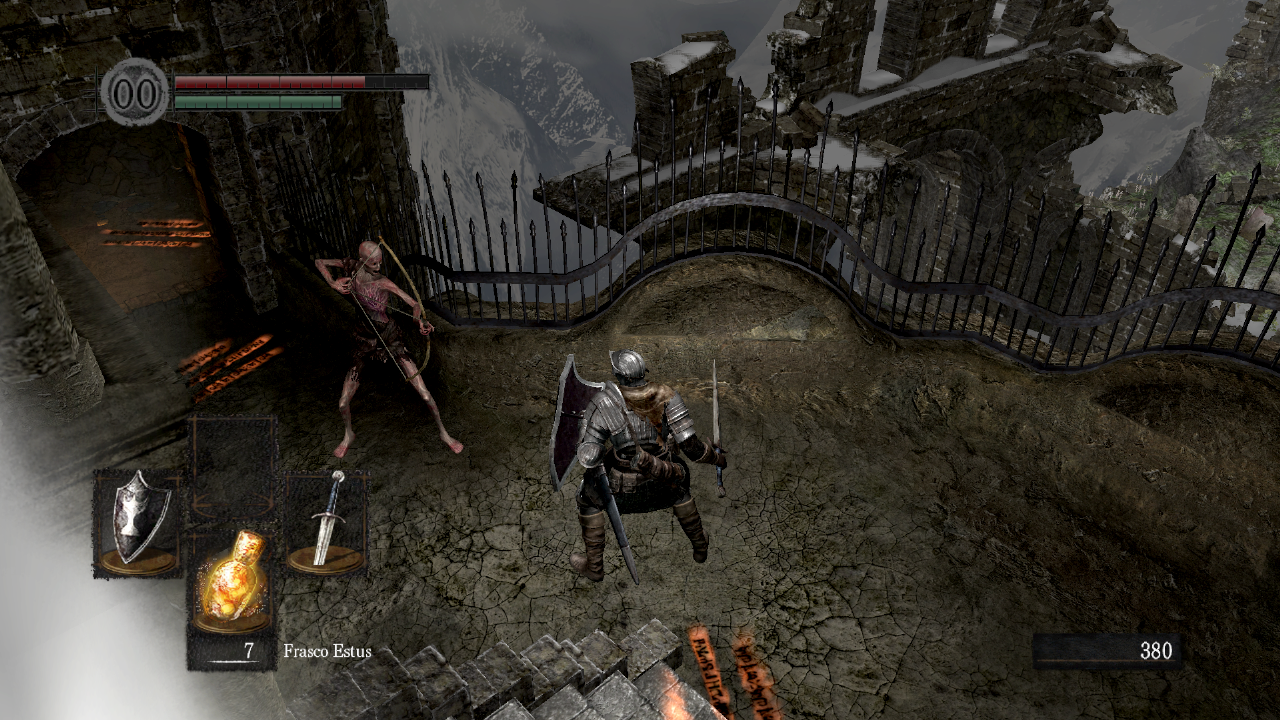hollow: (314, 235, 465, 459)
player: (548, 348, 729, 584)
